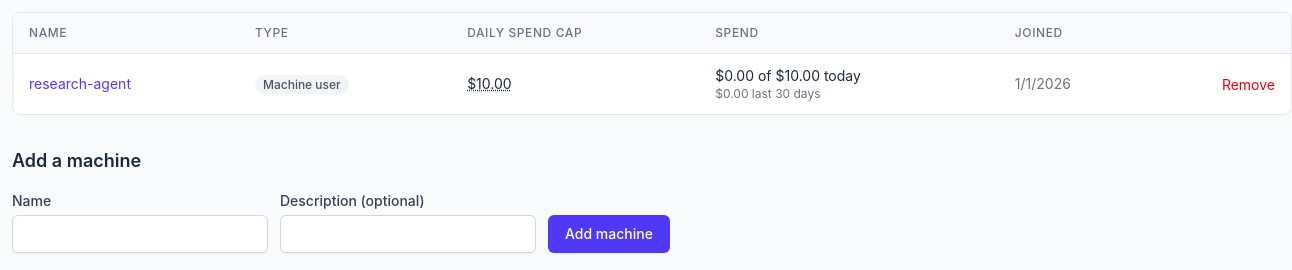
Test: MachinesManager › warns that removing a machine is permanent and revokes its keys
Click the button "Remove" at (1248, 85), box left=1222, top=75, right=1275, bottom=95
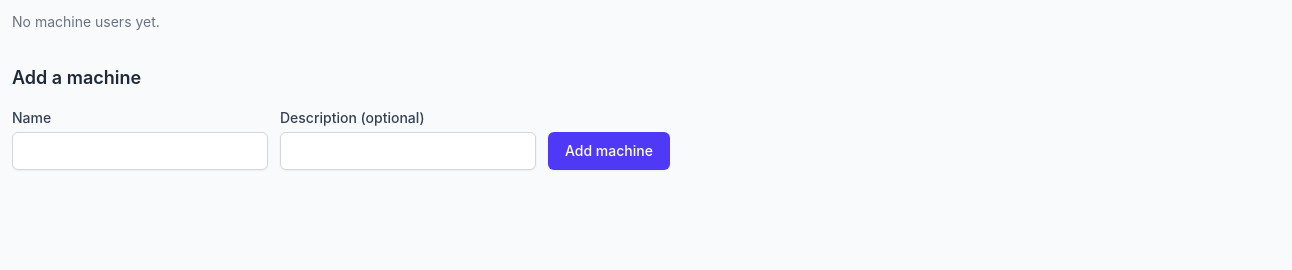
Expected: the link "research-agent" is gone
